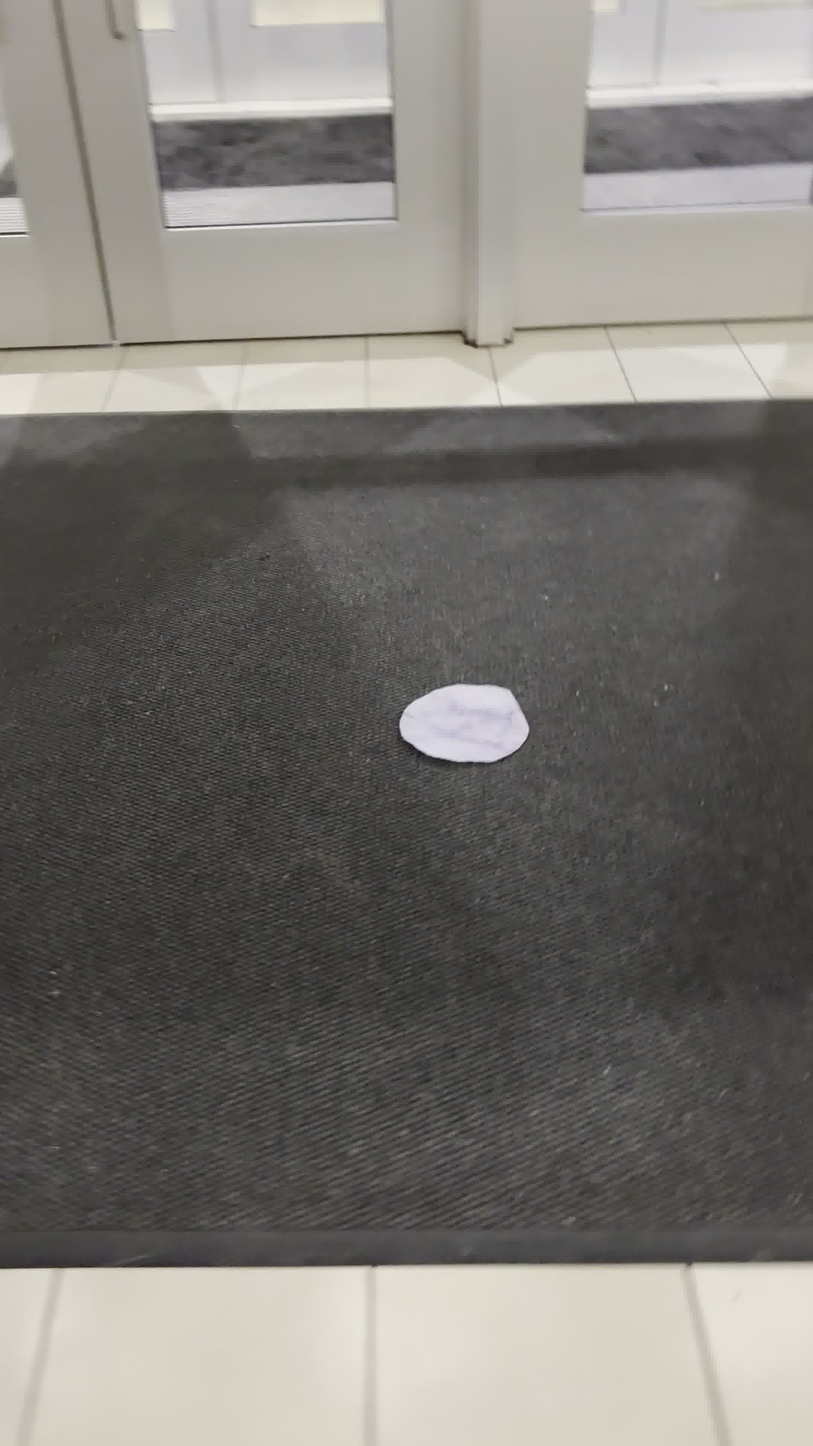Target: (399, 683, 529, 763)
